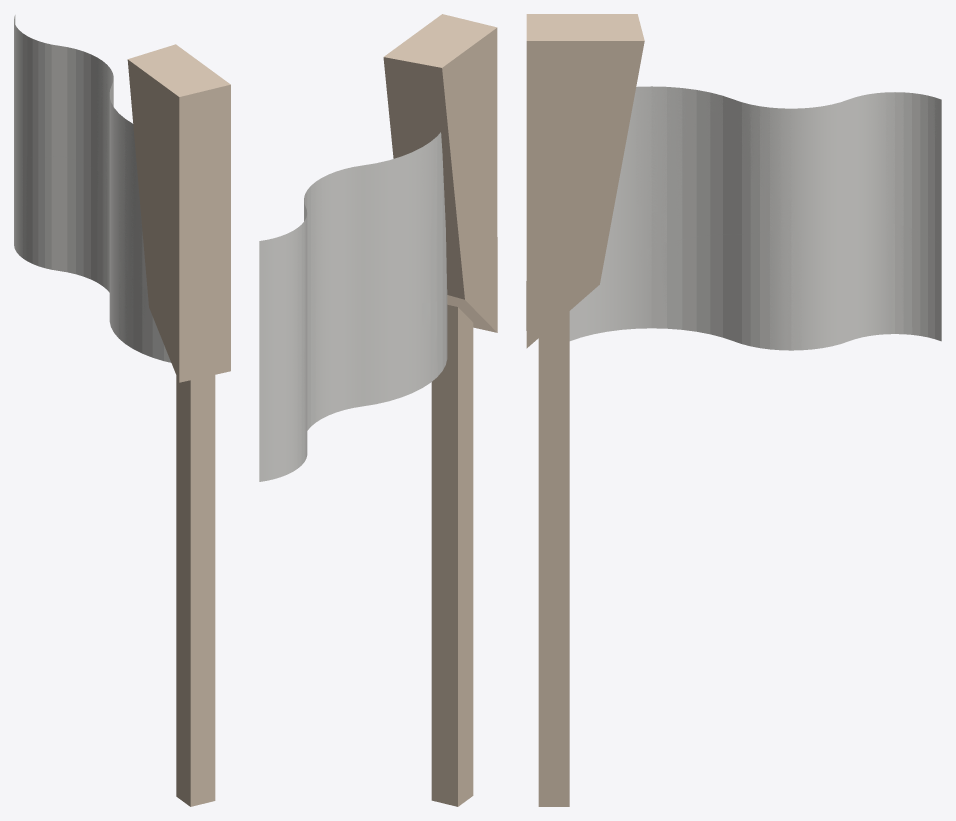
Rendered from flagWhiteWide.fbx.
3 renders of one model, left to right at view 1: azimuth 30°, elevation 25°; view 2: azimuth 150°, elevation 25°; view 3: azimuth 270°, elevation 25°, orthographic. The views are drawn at different scales.
Visible parts, largest first — view 1: flagWhiteWide_cell.006, flagWhiteWide, flagWhiteWide_cell.008, flagWhiteWide_cell.002, flagWhiteWide_cell.007, flagWhiteWide_cell, flagWhiteWide_cell.001, flagWhiteWide_cell.004; view 2: flagWhiteWide, flagWhiteWide_cell.006, flagWhiteWide_cell.008, flagWhiteWide_cell.002, flagWhiteWide_cell.001, flagWhiteWide_cell.003, flagWhiteWide_cell, flagWhiteWide_cell.007; view 3: flagWhiteWide, flagWhiteWide_cell.006, flagWhiteWide_cell.008, flagWhiteWide_cell.001, flagWhiteWide_cell.004, flagWhiteWide_cell.005, flagWhiteWide_cell, flagWhiteWide_cell.007, flagWhiteWide_cell.003.
Boxes of the visible parts, x1=… form: flagWhiteWide_cell.006: x1=127, y1=44, x2=230, y2=382; flagWhiteWide: x1=14, y1=21, x2=215, y2=806; flagWhiteWide_cell.008: x1=19, y1=156, x2=171, y2=362; flagWhiteWide_cell.002: x1=179, y1=525, x2=215, y2=806; flagWhiteWide_cell.007: x1=59, y1=46, x2=107, y2=178; flagWhiteWide_cell: x1=23, y1=33, x2=59, y2=157; flagWhiteWide_cell.001: x1=109, y1=81, x2=147, y2=290; flagWhiteWide_cell.004: x1=190, y1=378, x2=199, y2=520; flagWhiteWide: x1=259, y1=132, x2=473, y2=806; flagWhiteWide_cell.006: x1=383, y1=14, x2=497, y2=332; flagWhiteWide_cell.008: x1=291, y1=295, x2=447, y2=469; flagWhiteWide_cell.002: x1=458, y1=495, x2=473, y2=804; flagWhiteWide_cell.001: x1=332, y1=132, x2=447, y2=302; flagWhiteWide_cell.003: x1=431, y1=515, x2=457, y2=699; flagWhiteWide_cell: x1=292, y1=215, x2=307, y2=362; flagWhiteWide_cell.007: x1=304, y1=176, x2=325, y2=309; flagWhiteWide: x1=538, y1=86, x2=940, y2=806; flagWhiteWide_cell.006: x1=526, y1=14, x2=644, y2=348; flagWhiteWide_cell.008: x1=638, y1=223, x2=941, y2=350; flagWhiteWide_cell.001: x1=623, y1=86, x2=765, y2=247; flagWhiteWide_cell.004: x1=538, y1=311, x2=569, y2=519; flagWhiteWide_cell.005: x1=912, y1=93, x2=941, y2=244; flagWhiteWide_cell: x1=869, y1=92, x2=911, y2=228; flagWhiteWide_cell.007: x1=766, y1=107, x2=806, y2=231; flagWhiteWide_cell.003: x1=539, y1=521, x2=569, y2=806.
Bounding box in the file's own units: 59.88 × 797 × 389.
